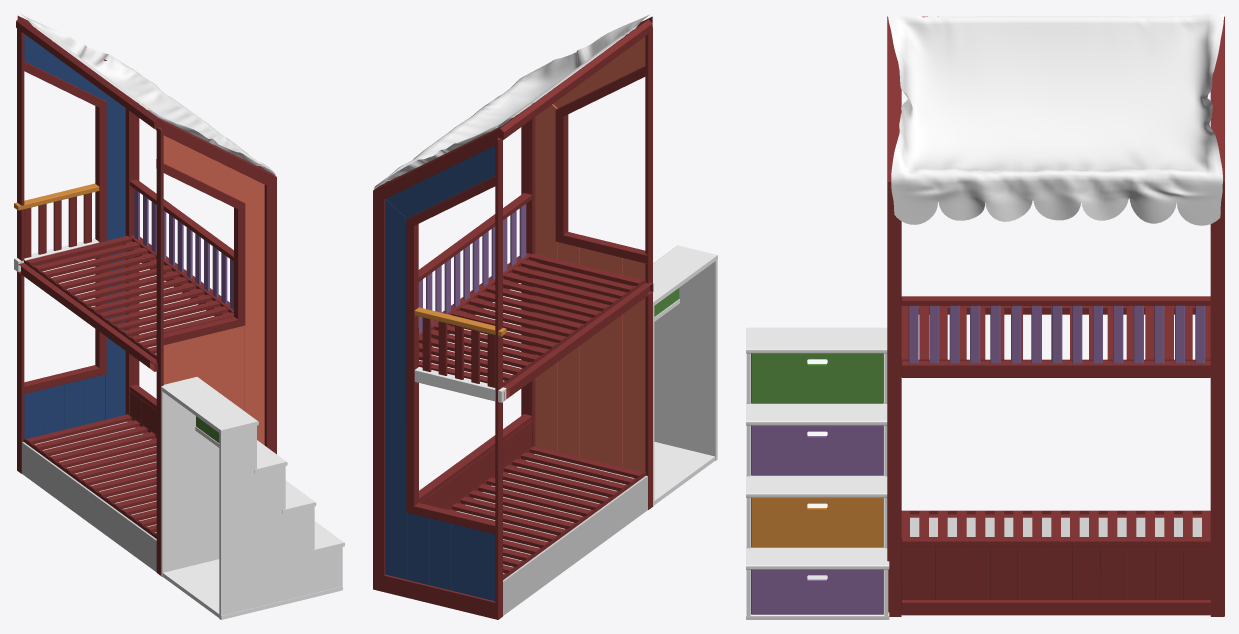
The model's file is Bunk bad.FBX.
3 views of the same model, side by side, from view 1: azimuth 30°, elevation 25°; view 2: azimuth 150°, elevation 25°; view 3: azimuth 270°, elevation 25° (orthographic). The views are drawn at different scales.
Parts seen in each view (by area): view 1: Line653, Box3618, Line652, Box3669, Box3615, Box3619, Group335, Group331, Box3667, Box3617, Box3759, Box3651 (+39 smaller); view 2: Box3618, Box3669, Line653, Box3666, Box3615, Box3667, Group335, Group331, Box3617, Box3651, Box3759, Box3751 (+37 smaller); view 3: Group335, Box3608, Box3617, Box3619, Box3666, Box3600, Box3624, Box3626, Box3603, Box3612, Box3613, Box3623 (+10 smaller).
Boxes of the visible parts, bbox=[...] form: Line653: bbox=[219, 425, 342, 619]; Box3618: bbox=[163, 185, 264, 444]; Line652: bbox=[161, 390, 219, 576]; Box3669: bbox=[24, 97, 125, 439]; Box3615: bbox=[22, 422, 156, 571]; Box3619: bbox=[155, 116, 276, 454]; Group335: bbox=[20, 14, 275, 175]; Group331: bbox=[24, 34, 264, 202]; Box3667: bbox=[24, 61, 106, 393]; Box3617: bbox=[134, 189, 233, 309]; Box3759: bbox=[17, 29, 24, 473]; Box3651: bbox=[156, 159, 245, 345]; Box3618: bbox=[535, 104, 645, 473]; Box3669: bbox=[385, 199, 495, 601]; Line653: bbox=[654, 260, 717, 460]; Box3666: bbox=[373, 125, 503, 619]; Box3615: bbox=[456, 454, 647, 615]; Box3667: bbox=[406, 175, 497, 534]; Group335: bbox=[373, 14, 649, 189]; Group331: bbox=[386, 36, 645, 218]; Box3617: bbox=[418, 204, 526, 333]; Box3651: bbox=[555, 65, 647, 263]; Box3759: bbox=[495, 137, 502, 619]; Box3751: bbox=[645, 27, 652, 509]; Group335: bbox=[888, 14, 1224, 225]; Box3608: bbox=[901, 546, 1210, 599]; Box3617: bbox=[908, 305, 1205, 363]; Box3619: bbox=[887, 16, 901, 616]; Box3666: bbox=[1210, 16, 1224, 616]; Box3600: bbox=[751, 497, 883, 547]; Box3624: bbox=[751, 353, 883, 403]; Box3626: bbox=[751, 425, 883, 475]; Box3603: bbox=[751, 569, 883, 614]; Box3612: bbox=[901, 361, 1210, 377]; Box3613: bbox=[901, 600, 1210, 615]; Box3623: bbox=[746, 327, 887, 353].
Bounding box in the file's own units: 843 × 2896 × 2340.
